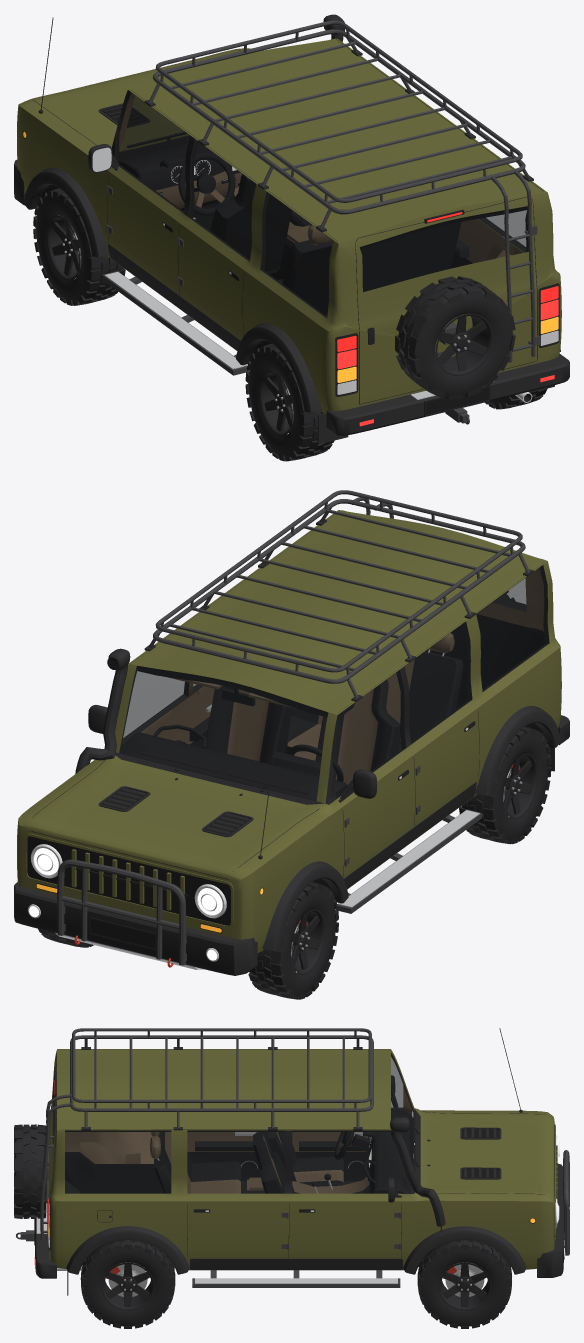
Rendered from ridgeback_sx.glb.
3 views of the same model, one above another, from view 1: azimuth 30°, elevation 25°; view 2: azimuth 150°, elevation 25°; view 3: azimuth 270°, elevation 25° (orthographic). The views are drawn at different scales.
Parts seen in each view (by area): view 1: Body, Glass, Interior, Wheel_FL, Wheel_RL, SteeringWheel, Lights_Tail, Lights_Brake; view 2: Body, Glass, Interior, Wheel_FL, Wheel_RL, Lights_Head; view 3: Body, Glass, Interior, Wheel_RR, Wheel_FR.
Part boxes in pixels (<box>): Body: <box>14,14,569,444</box>; Glass: <box>115,90,528,317</box>; Interior: <box>118,93,523,315</box>; Wheel_FL: <box>33,188,125,305</box>; Wheel_RL: <box>245,343,334,461</box>; SteeringWheel: <box>178,152,235,215</box>; Lights_Tail: <box>337,299,558,426</box>; Lights_Brake: <box>337,212,558,351</box>; Body: <box>14,490,569,975</box>; Glass: <box>120,566,548,800</box>; Interior: <box>120,568,544,800</box>; Wheel_FL: <box>248,881,338,999</box>; Wheel_RL: <box>459,726,551,844</box>; Lights_Head: <box>29,848,222,960</box>; Body: <box>14,1028,569,1295</box>; Glass: <box>53,1054,413,1193</box>; Interior: <box>65,1086,413,1193</box>; Wheel_RR: <box>80,1240,175,1328</box>; Wheel_FR: <box>417,1240,511,1328</box>.
Size of the model in its own units: 2.22 by 2.03 by 4.7.
